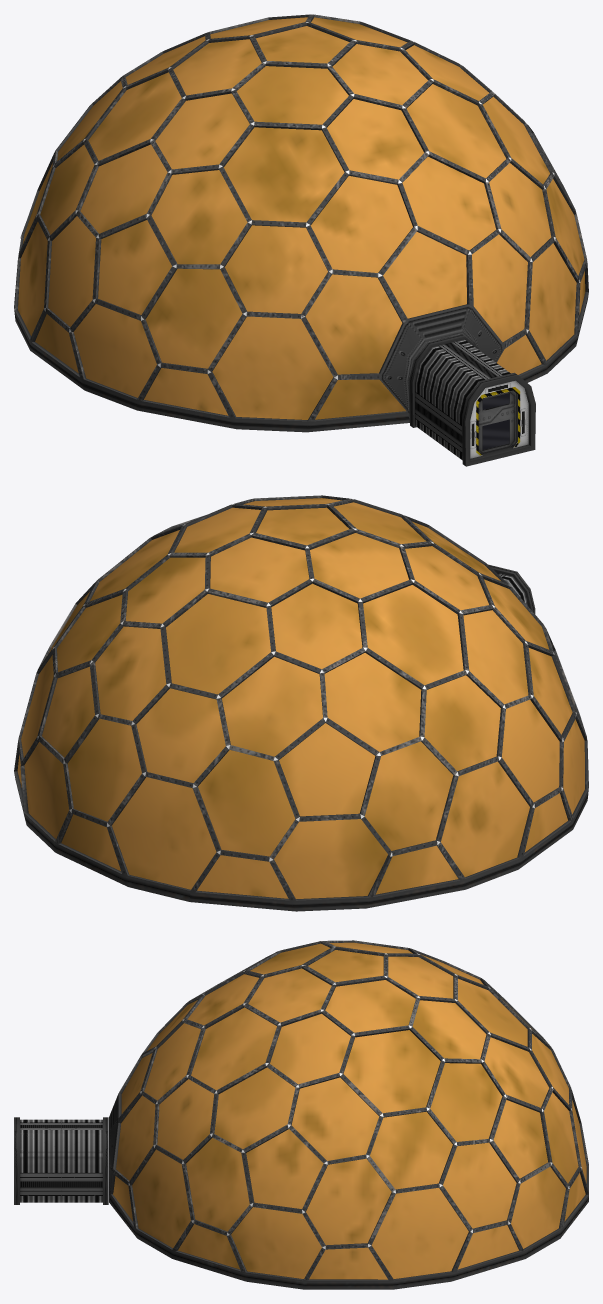
File: hydropon_dome.dae
3 views of the same model, one above another, from view 1: azimuth 30°, elevation 25°; view 2: azimuth 150°, elevation 25°; view 3: azimuth 270°, elevation 25° (orthographic). The views are drawn at different scales.
Visible parts, largest first — view 1: hydropon_dome; view 2: hydropon_dome; view 3: hydropon_dome.
Boxes of the visible parts, x1,y1,x2,y2 form: hydropon_dome: (14, 14, 588, 466); hydropon_dome: (14, 495, 588, 911); hydropon_dome: (14, 940, 588, 1289).
Bounding box in the file's own units: 29.41 × 35.28 × 15.28.
2 materials, 2 textured.
